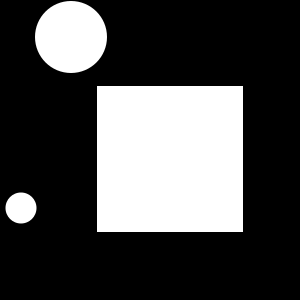circle: (97, 86, 243, 232), (155, 143, 199, 187)
rectangle: (35, 1, 107, 73), (6, 193, 36, 224)
